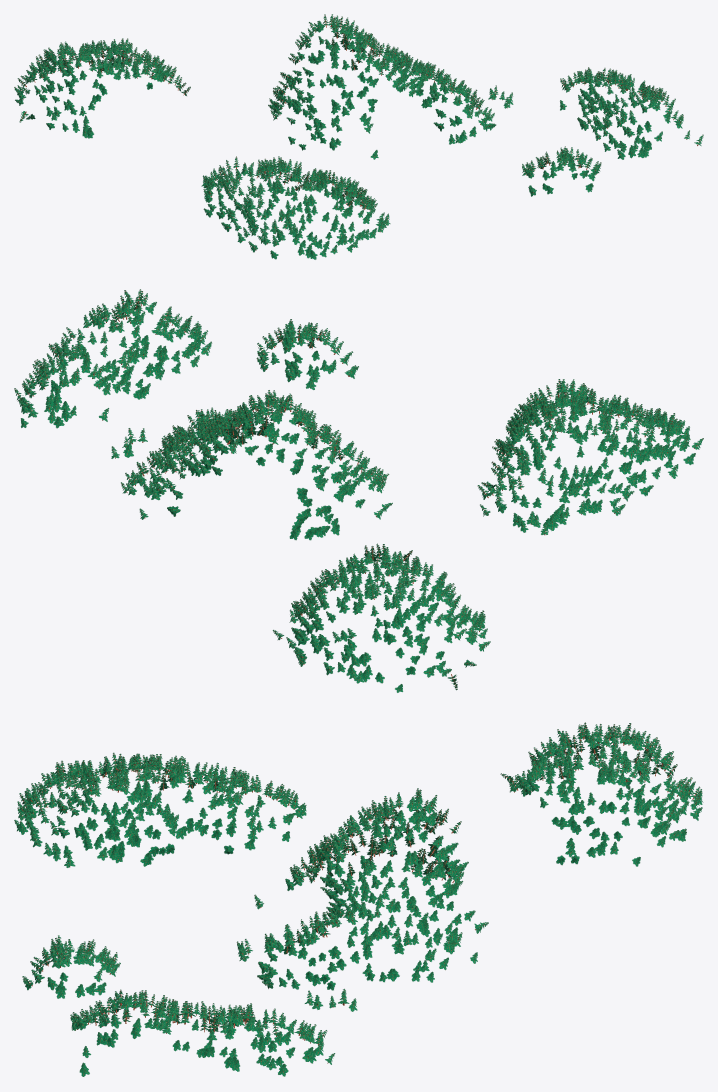
Rendered from forest.gltf.
3 views of the same model, one above another, from view 1: azimuth 30°, elevation 25°; view 2: azimuth 150°, elevation 25°; view 3: azimuth 270°, elevation 25° (orthographic). The views are drawn at different scales.
Size of the model in its own units: 99.34 by 21.56 by 93.36.
2 materials, 1 textured.
